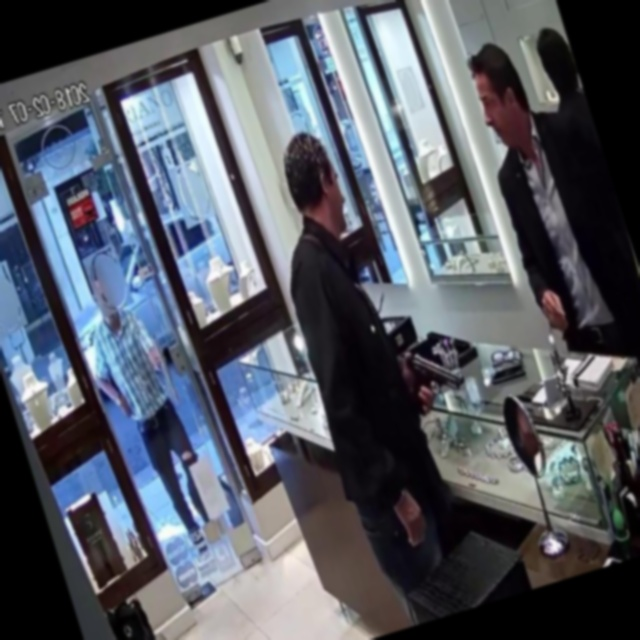gun: (390, 326, 479, 434)
